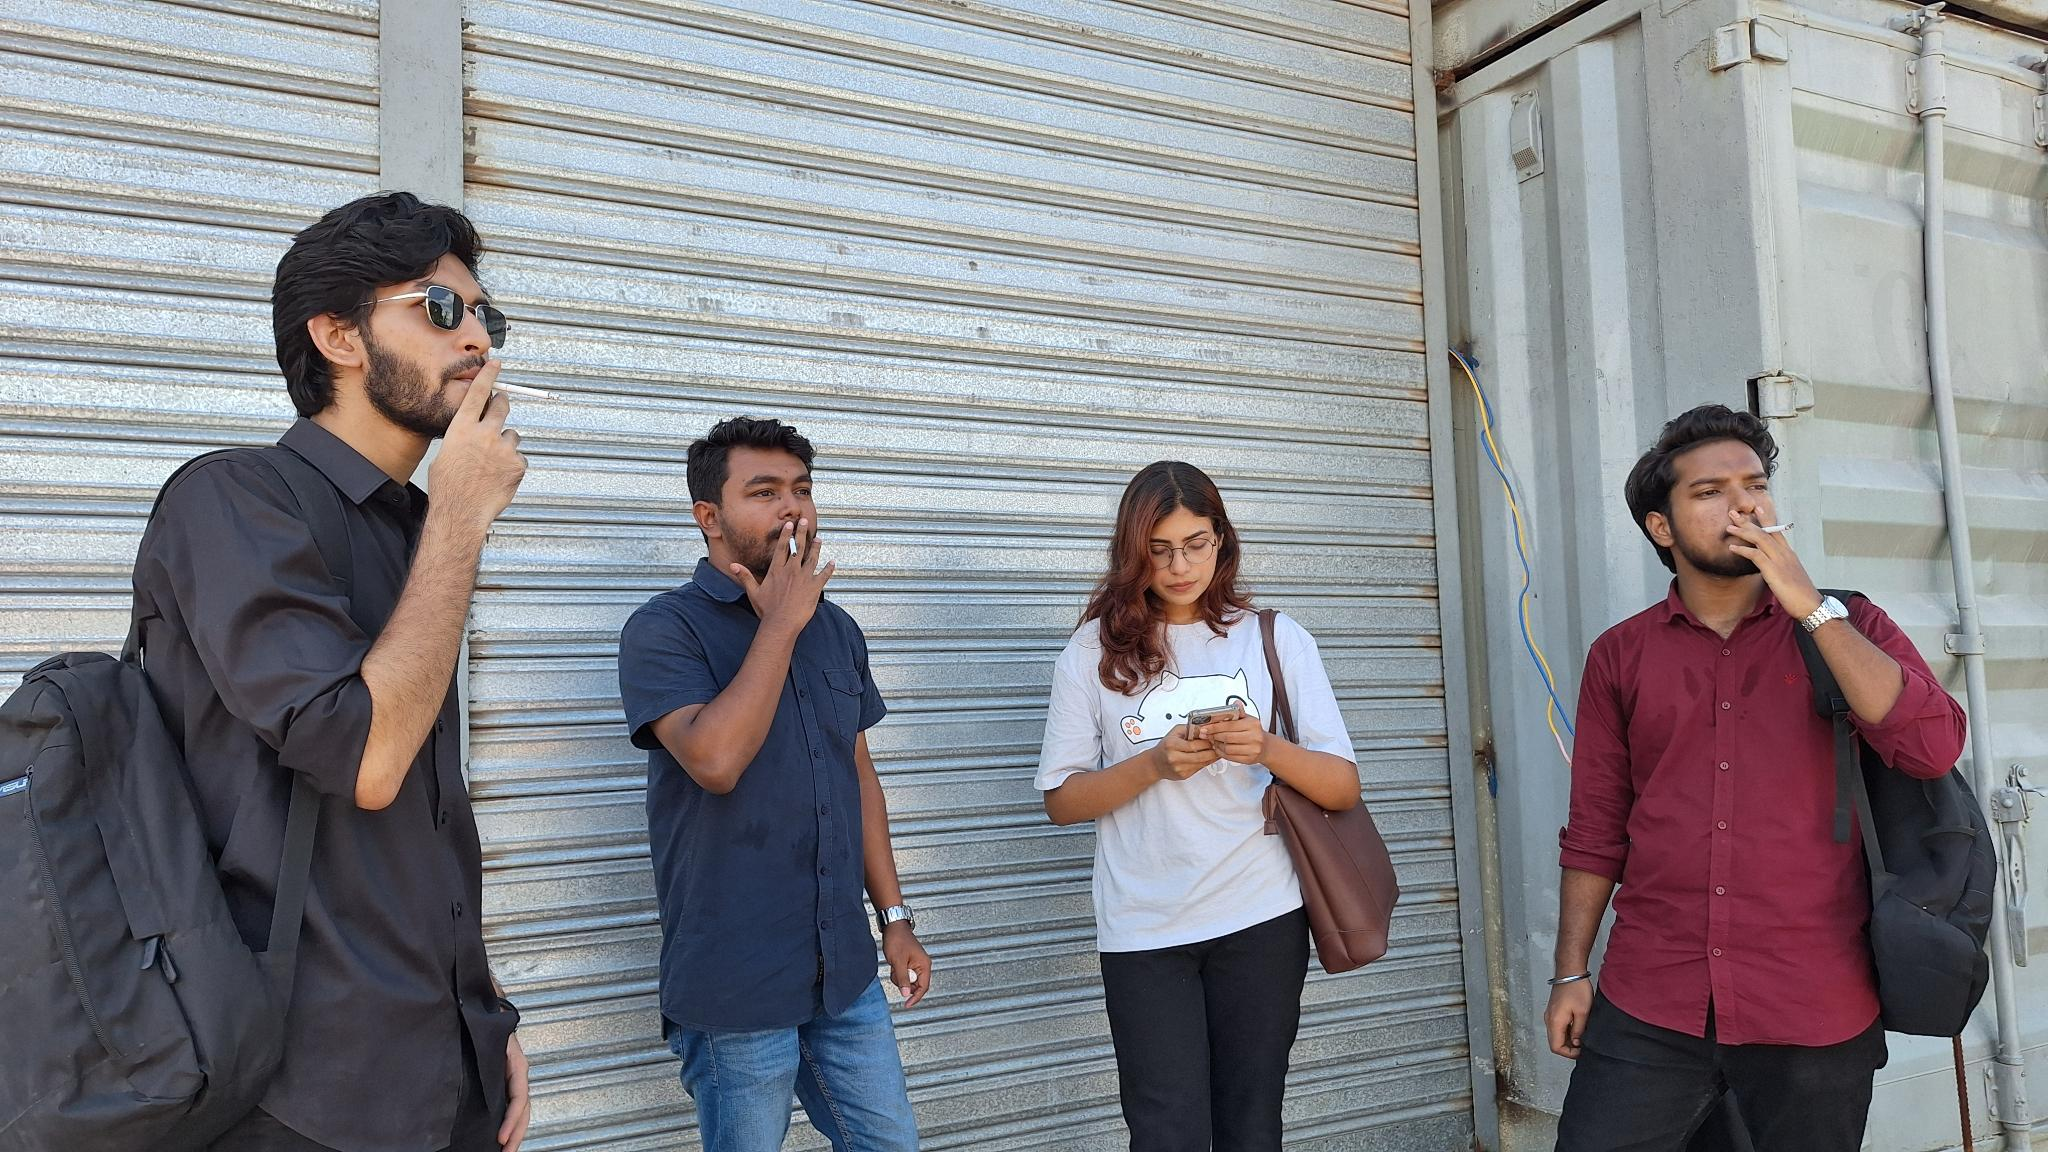cigarette: (489, 380, 563, 402), (1760, 520, 1796, 535), (788, 535, 799, 560)
nonSmoker: (1032, 461, 1400, 1152)
smoker: (0, 191, 530, 1152), (1544, 404, 1997, 1152), (620, 419, 933, 1152)
